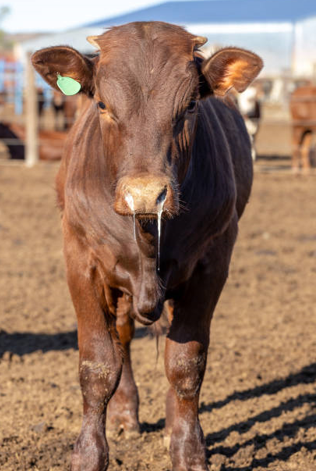bovino: (28, 18, 265, 467)
